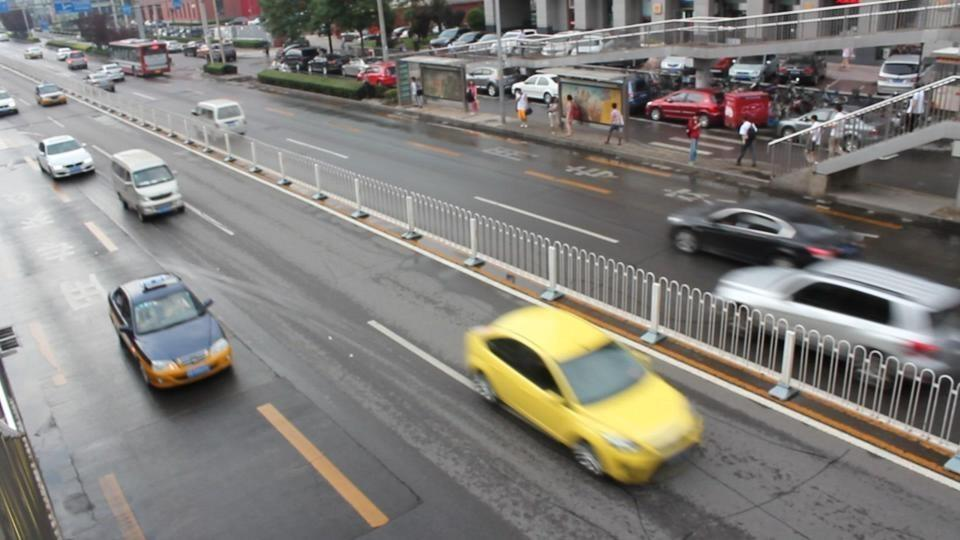car: (463, 304, 705, 487), (712, 257, 960, 390), (108, 272, 235, 390), (666, 200, 867, 268), (108, 147, 186, 221), (645, 89, 724, 125), (739, 53, 821, 87), (35, 135, 96, 180), (191, 97, 248, 135), (466, 66, 530, 98), (876, 54, 924, 95), (726, 52, 780, 87), (510, 75, 562, 102), (34, 81, 69, 107), (0, 89, 18, 117)
